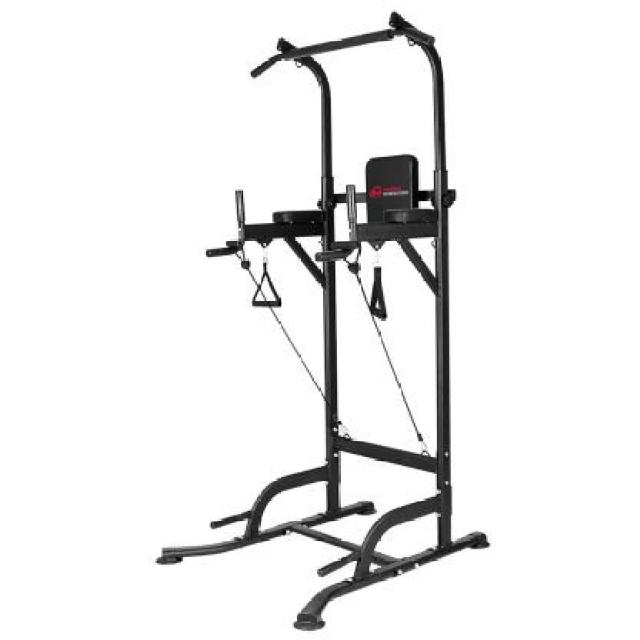chinning dipping: (157, 12, 491, 634)
